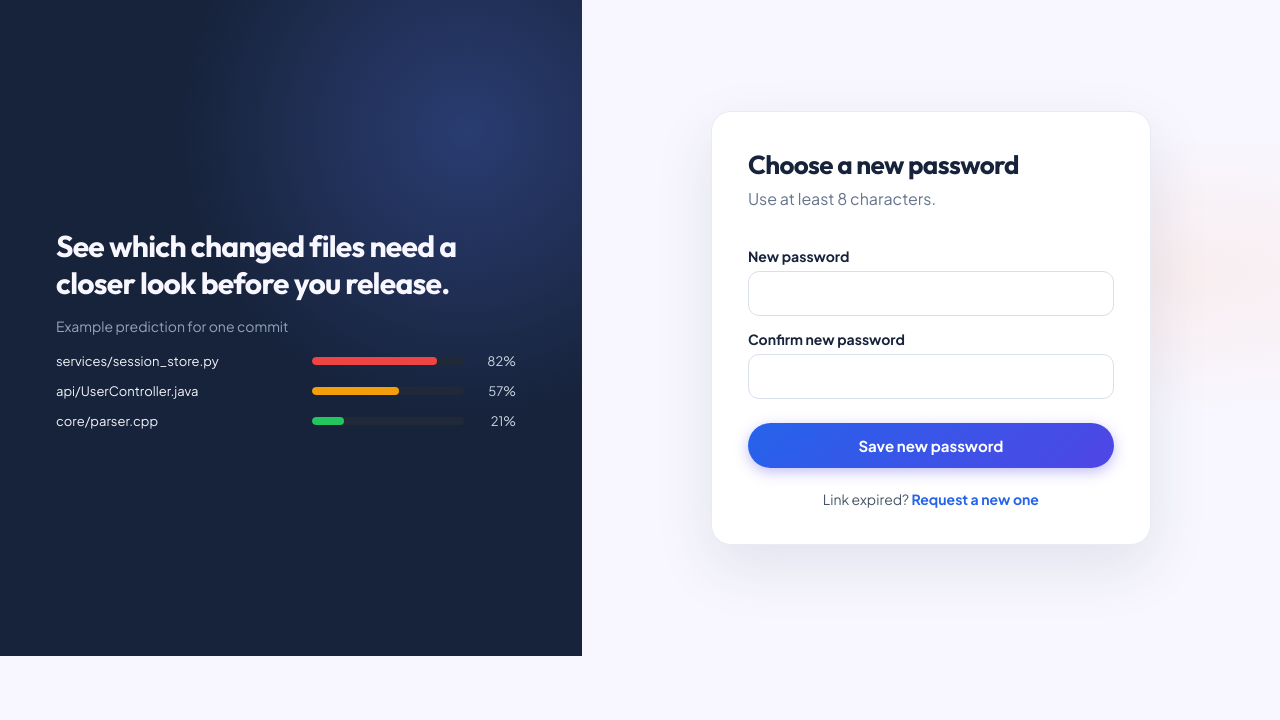
authentication pages › completes password reset with the URL token and stores the new session
The width and height of the screenshot is (1280, 720).
In the password field labelled "New password": x=931, y=294 x1=748 y1=271 x2=1114 y2=316, type "Test-pass-123"
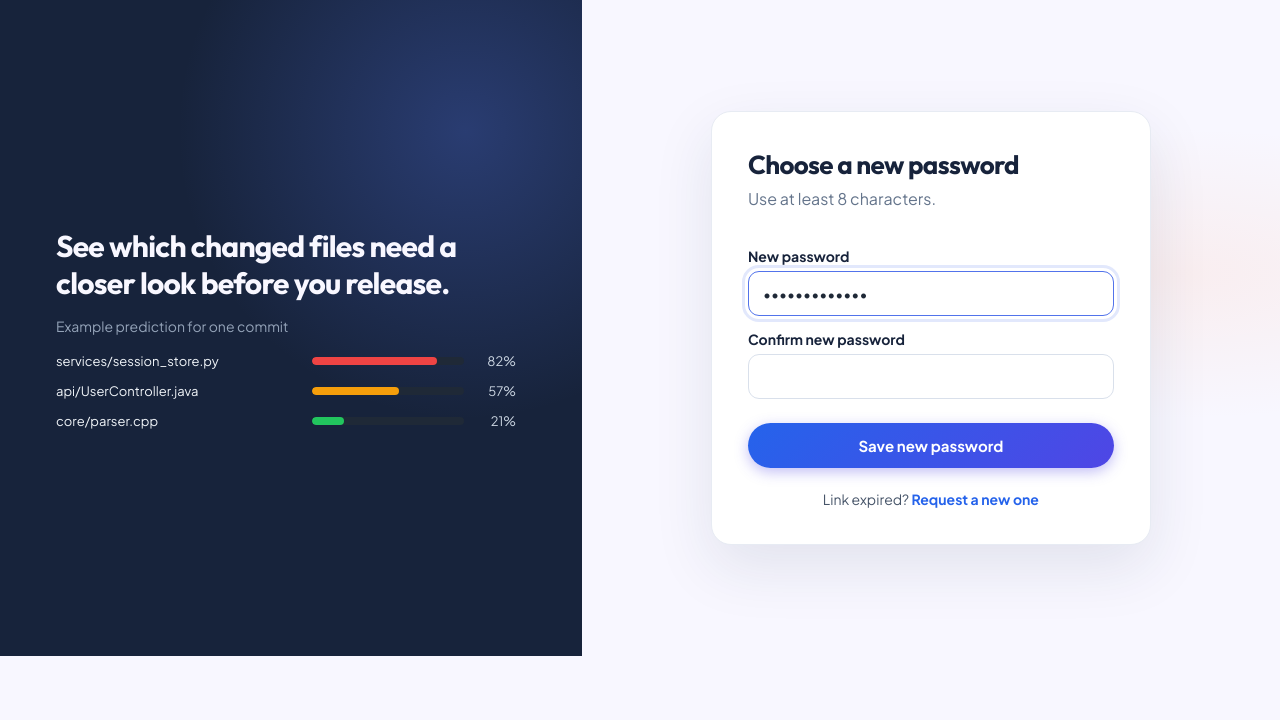
In the password field labelled "Confirm new password": x=931, y=376 x1=748 y1=354 x2=1114 y2=399, type "Test-pass-123"
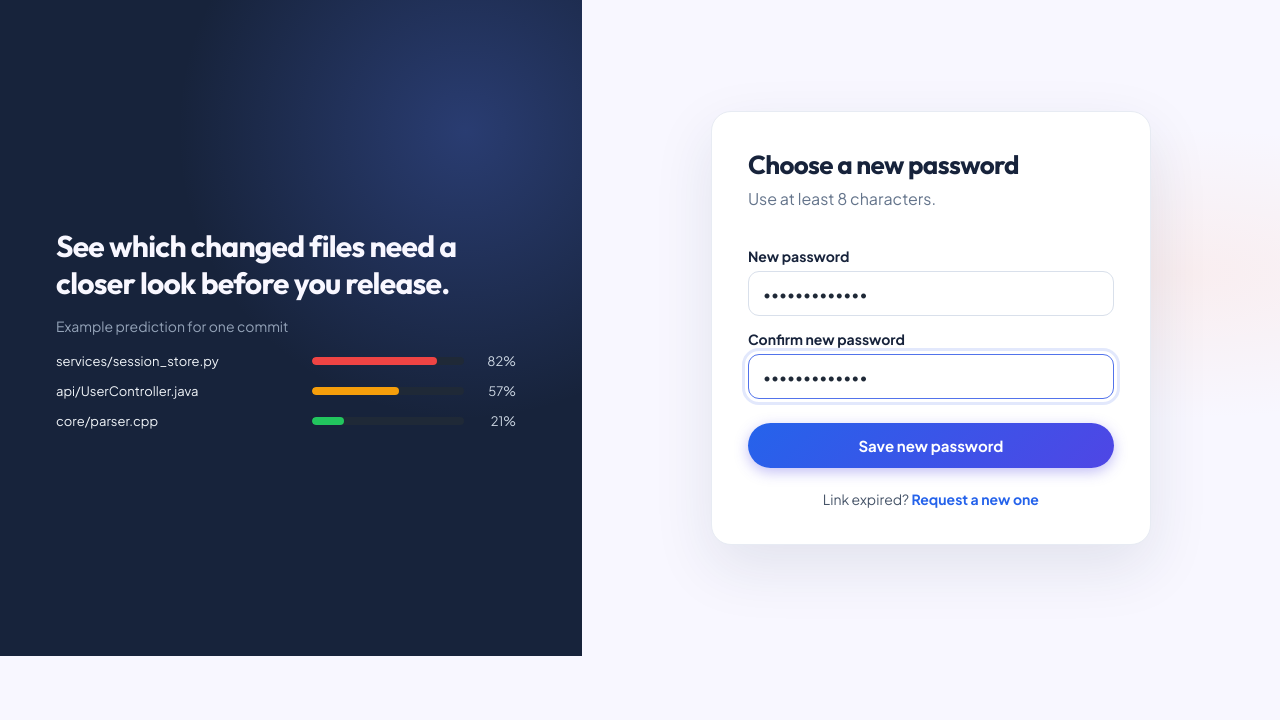
Click the button "Save new password": x=931, y=446 x1=748 y1=423 x2=1114 y2=468
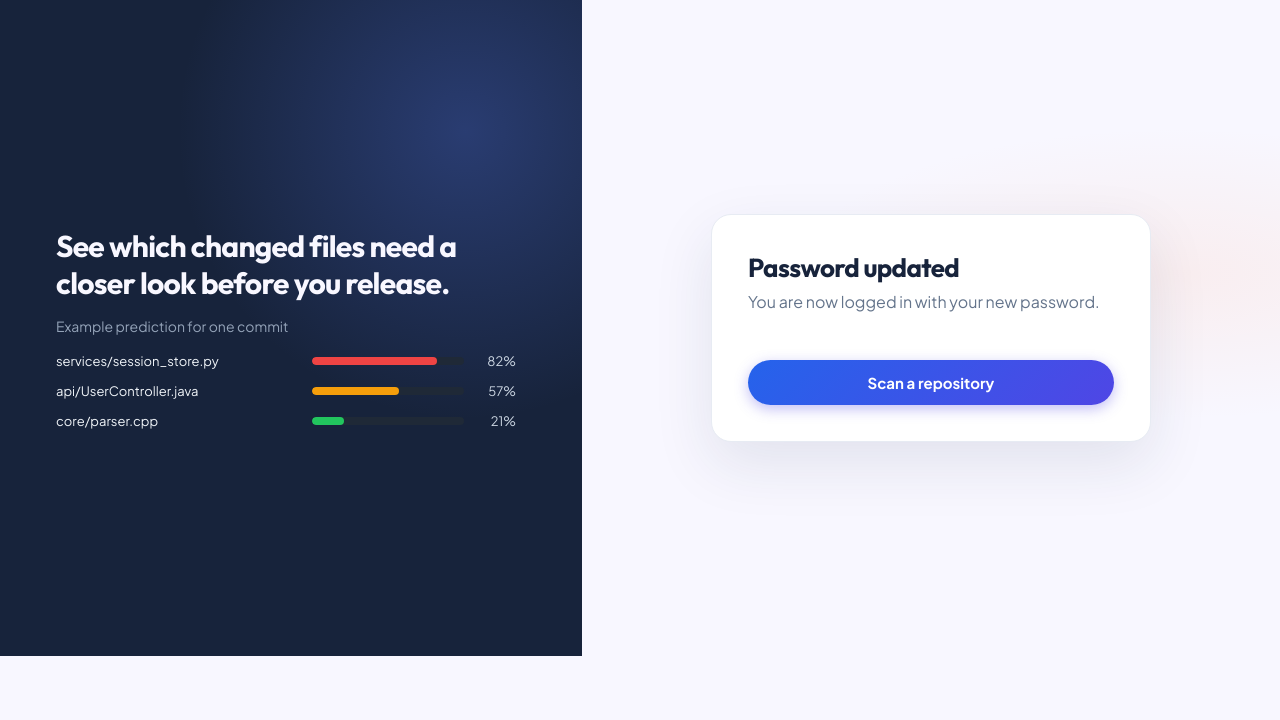
Expected: the heading "Password updated" is shown, x1=748 y1=251 x2=959 y2=284
